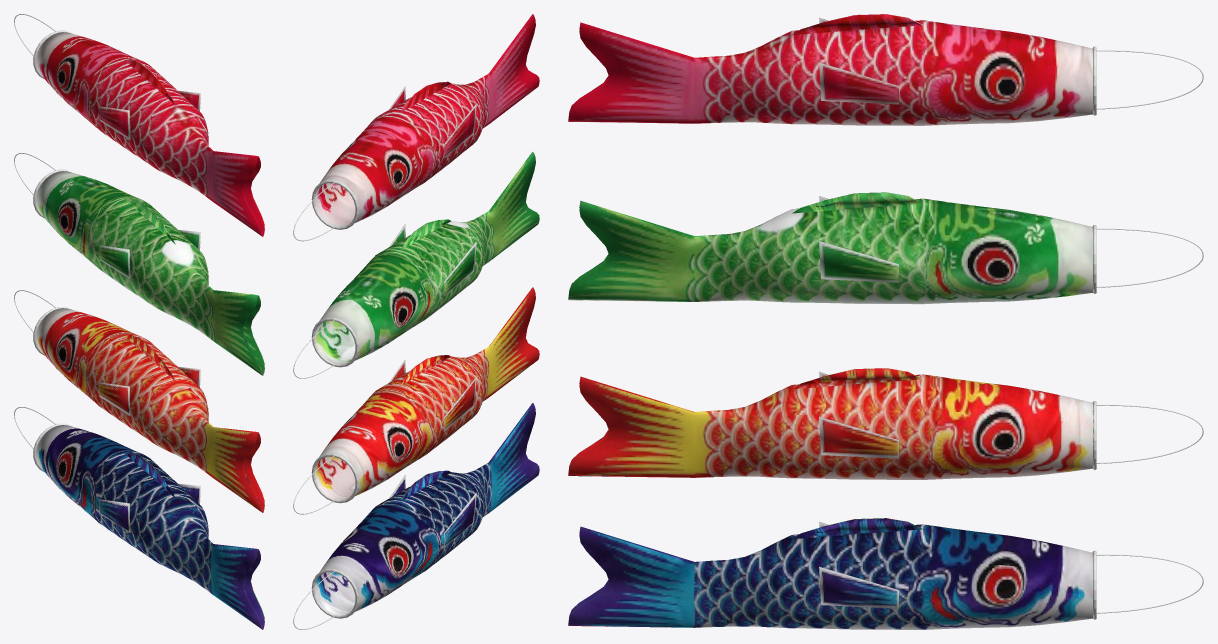
Rendered from carp flag.fbx.
The picture shows the model from 3 angles, left to right: view 1: azimuth 30°, elevation 25°; view 2: azimuth 150°, elevation 25°; view 3: azimuth 270°, elevation 25°; orthographic projection. The views are drawn at different scales.
Parts seen in each view (by area): view 1: CARP.002, CARP, CARP.001, CARP.003, rope; view 2: CARP, CARP.002, CARP.003, CARP.001, rope; view 3: CARP, CARP.002, CARP.003, CARP.001, rope.
Part boxes in pixels (x1=…): CARP.002: x1=36, y1=308, x2=264, y2=512; CARP: x1=36, y1=32, x2=264, y2=236; CARP.001: x1=36, y1=171, x2=264, y2=375; CARP.003: x1=36, y1=425, x2=264, y2=629; rope: x1=14, y1=14, x2=72, y2=472; CARP: x1=315, y1=14, x2=539, y2=226; CARP.002: x1=315, y1=287, x2=539, y2=500; CARP.003: x1=315, y1=403, x2=539, y2=615; CARP.001: x1=315, y1=152, x2=539, y2=364; rope: x1=293, y1=180, x2=358, y2=629; CARP: x1=568, y1=14, x2=1092, y2=125; CARP.002: x1=568, y1=368, x2=1093, y2=479; CARP.003: x1=568, y1=518, x2=1092, y2=629; CARP.001: x1=568, y1=192, x2=1092, y2=304; rope: x1=1092, y1=46, x2=1203, y2=619.
Size of the model in its own units: 293 by 1855 by 1741.
